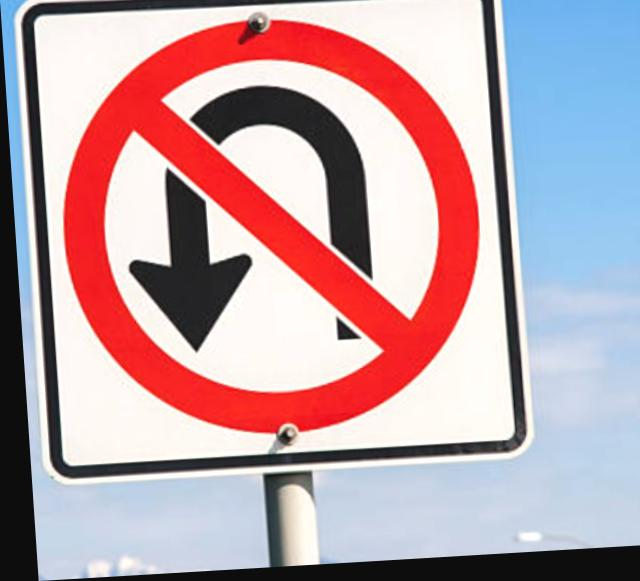not_u_turn_left: (47, 0, 499, 458)
